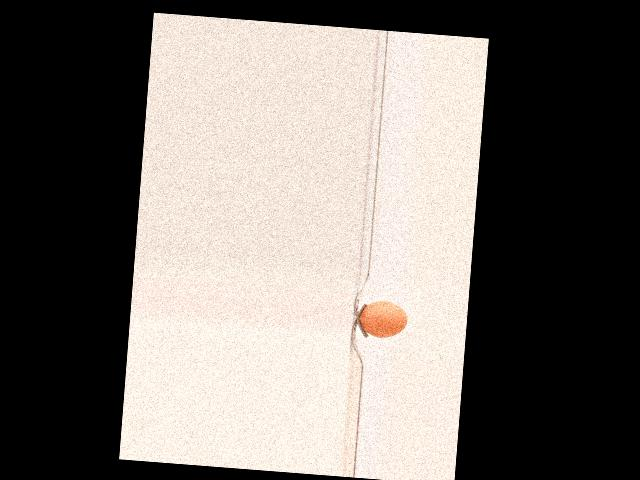egg: (359, 299, 408, 338)
